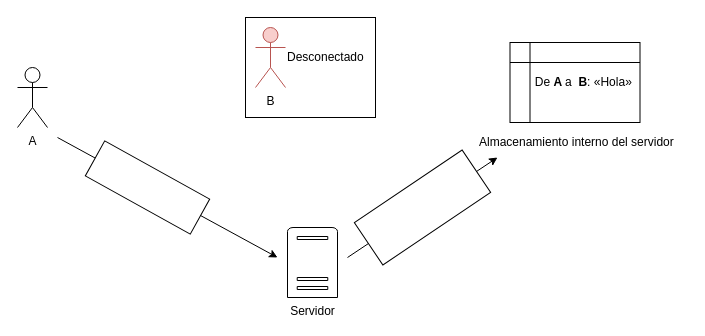
Image size: 705x336. Some labels were removed from this diagram. Each missing label, with the centre of its shape:
"Almacenamiento de mensaje: receptor desconectado" belongs at (x=422, y=207).
"Envío de mensaje a B : «Hola»" belongs at (x=147, y=187).
